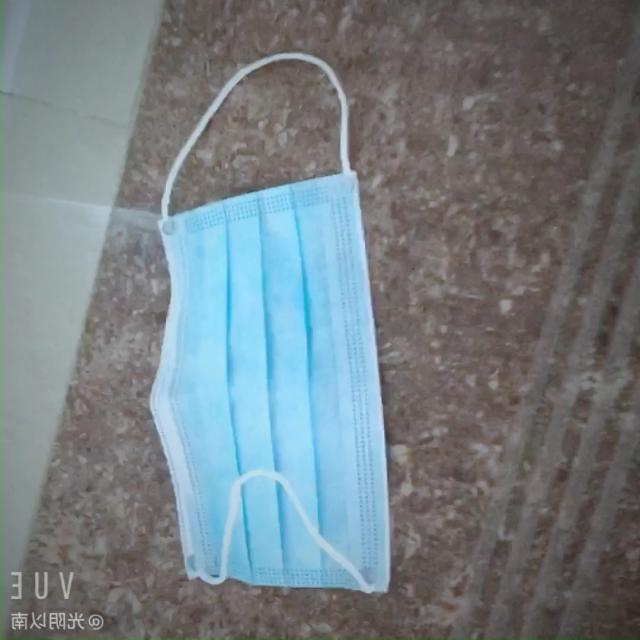face mask: (150, 163, 398, 597)
